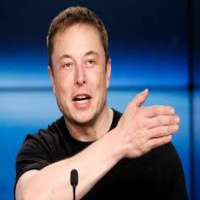ring: (145, 123, 186, 138)
